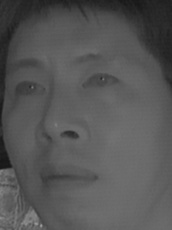eye: (10, 77, 47, 103), (83, 68, 120, 93)
mouth: (32, 157, 100, 199)
